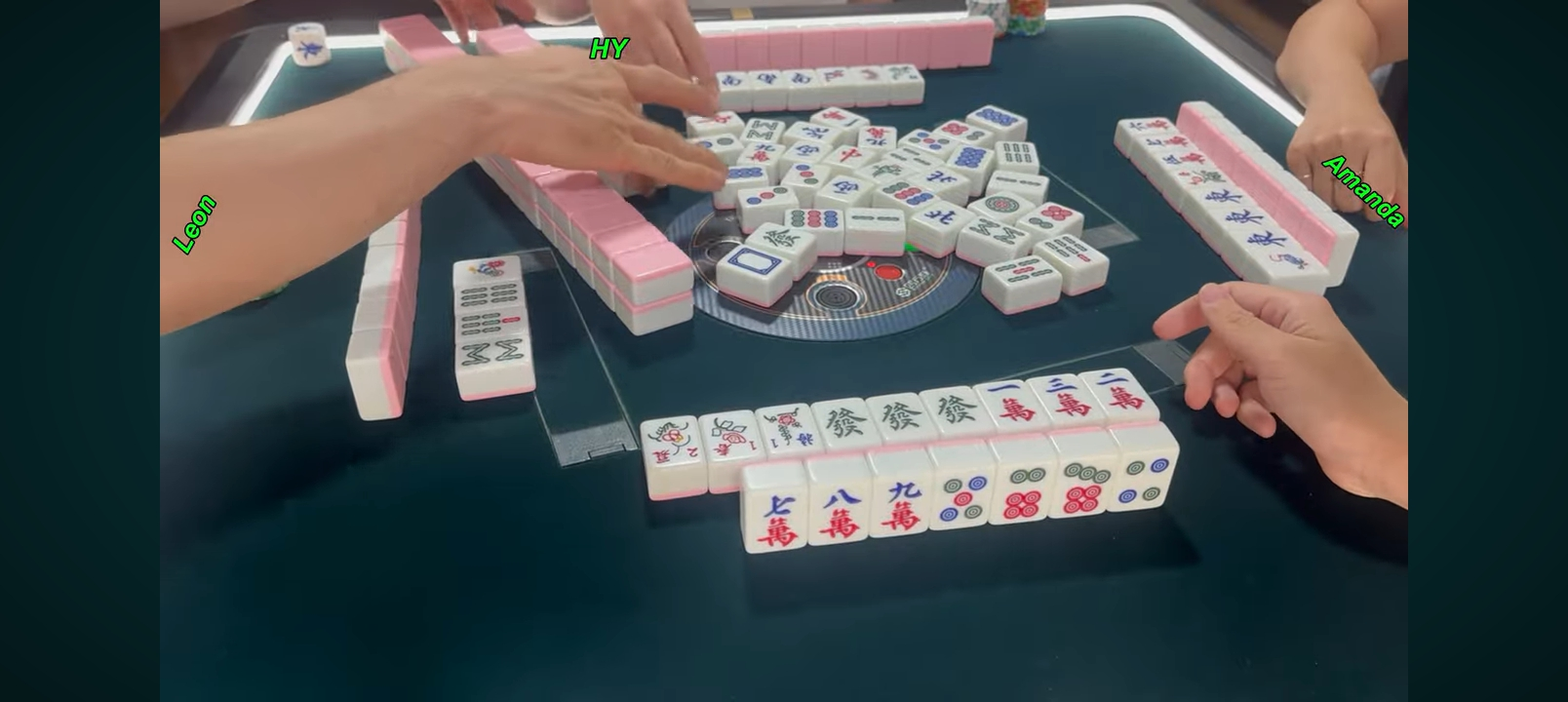TILE: (748, 488, 808, 552), (808, 483, 871, 543), (996, 465, 1057, 526), (933, 472, 998, 529), (870, 478, 933, 536), (1053, 458, 1117, 515), (1092, 366, 1161, 418), (1115, 455, 1178, 509), (641, 415, 705, 467), (815, 400, 879, 448), (924, 387, 987, 435), (759, 406, 823, 453), (1036, 373, 1095, 423), (869, 395, 931, 442), (701, 411, 761, 459), (977, 382, 1041, 425)
